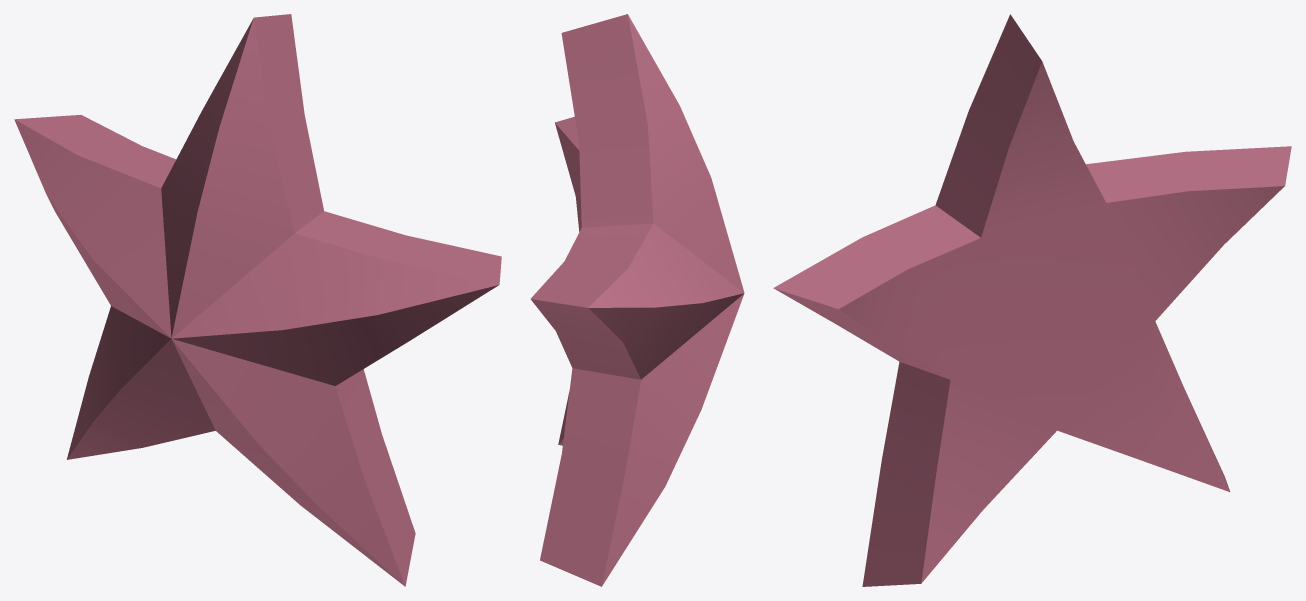
File: BL4_Frame_Star.001 3.glb
The picture shows the model from 3 angles, left to right: view 1: azimuth 30°, elevation 25°; view 2: azimuth 150°, elevation 25°; view 3: azimuth 270°, elevation 25°; orthographic projection. The views are drawn at different scales.
Parts seen in each view (by area): view 1: BL4_Frame_Star.001; view 2: BL4_Frame_Star.001; view 3: BL4_Frame_Star.001.
Boxes of the visible parts, left/top/right/bottom form: BL4_Frame_Star.001: left=14, top=14, right=501, bottom=586; BL4_Frame_Star.001: left=530, top=14, right=744, bottom=586; BL4_Frame_Star.001: left=773, top=14, right=1291, bottom=586.
Size of the model in its own units: 0.2738 by 0.4958 by 0.4356.
